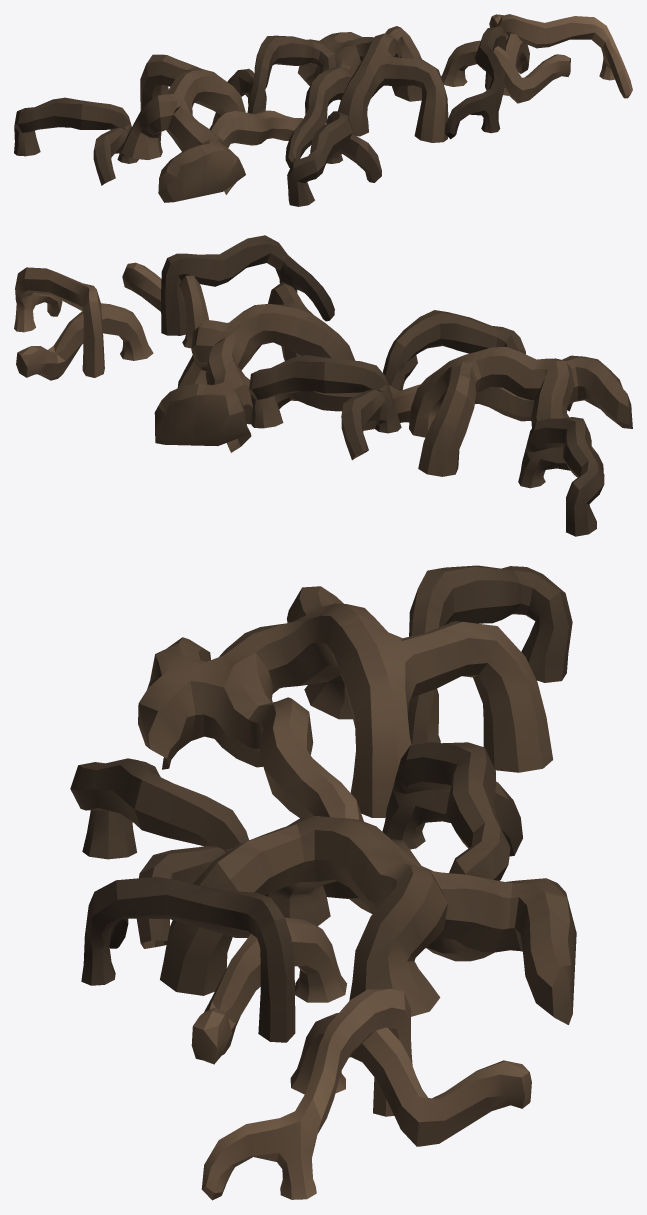
Rendered from ea_swamp_root_04d_pre_2_lev1.glb.
The picture shows the model from 3 angles, top to bottom: view 1: azimuth 30°, elevation 25°; view 2: azimuth 150°, elevation 25°; view 3: azimuth 270°, elevation 25°; orthographic projection. The views are drawn at different scales.
Visible parts, largest first — view 1: ea_swamp_root_04d_pre_2_lev1; view 2: ea_swamp_root_04d_pre_2_lev1; view 3: ea_swamp_root_04d_pre_2_lev1.
Boxes of the visible parts, box(x1,y1,x2,y2) form: ea_swamp_root_04d_pre_2_lev1: box(14, 14, 632, 206); ea_swamp_root_04d_pre_2_lev1: box(14, 235, 632, 536); ea_swamp_root_04d_pre_2_lev1: box(70, 565, 576, 1200).
Size of the model in its own units: 3.24 by 0.6039 by 1.31.
Materials: 1 (1 with a texture image).
